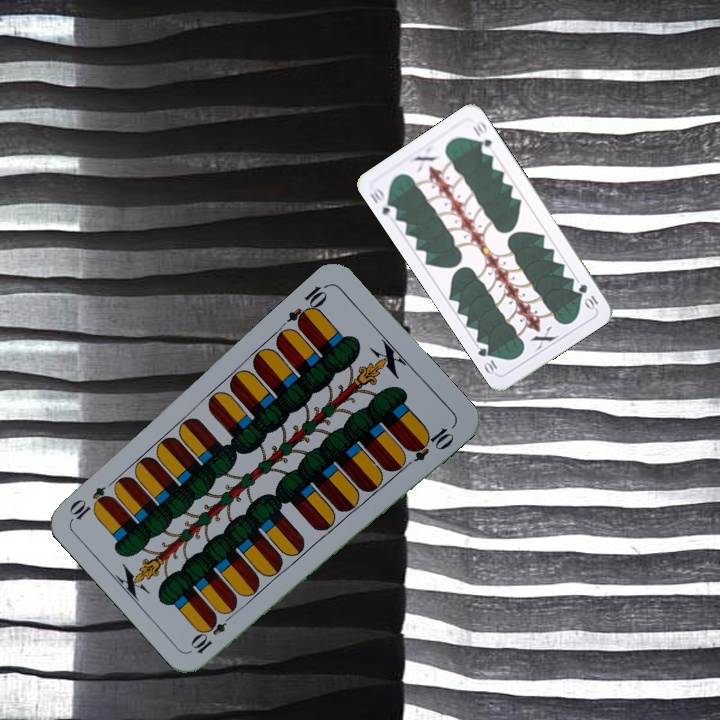E10: (187, 608, 237, 657), (283, 280, 331, 331)
G10: (366, 184, 400, 222), (574, 280, 601, 312)
